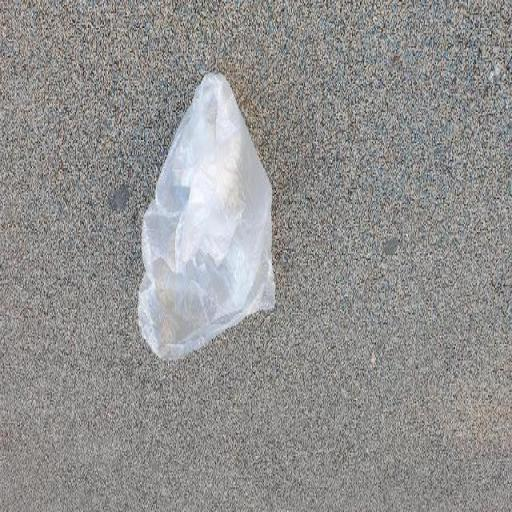plastic-bag: (137, 62, 274, 358)
